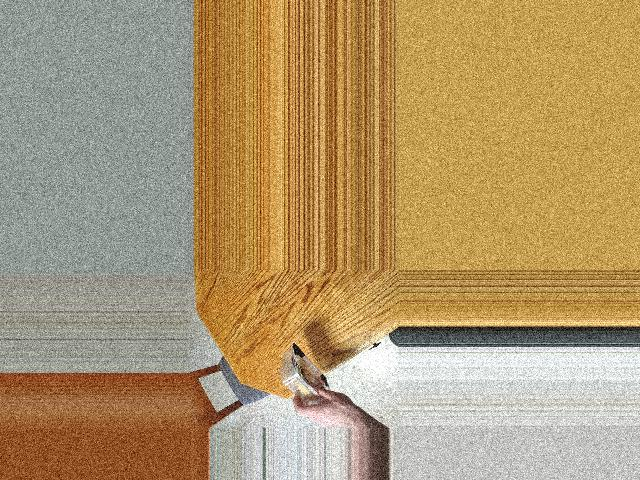cheese: (266, 350, 337, 407)
